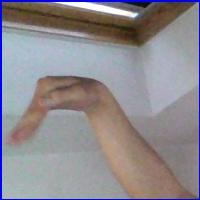del: (4, 74, 120, 155)
